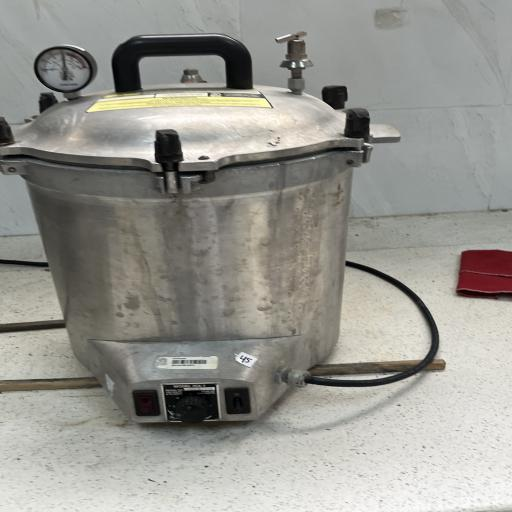Autoclave: (1, 28, 410, 440)
